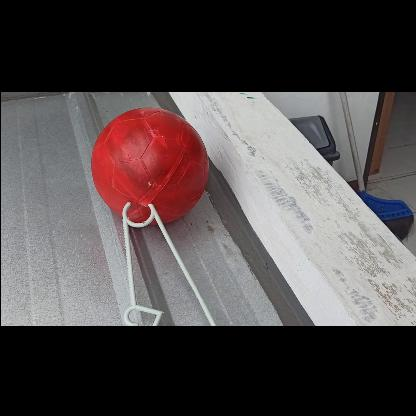red_ball: (87, 106, 204, 222)
